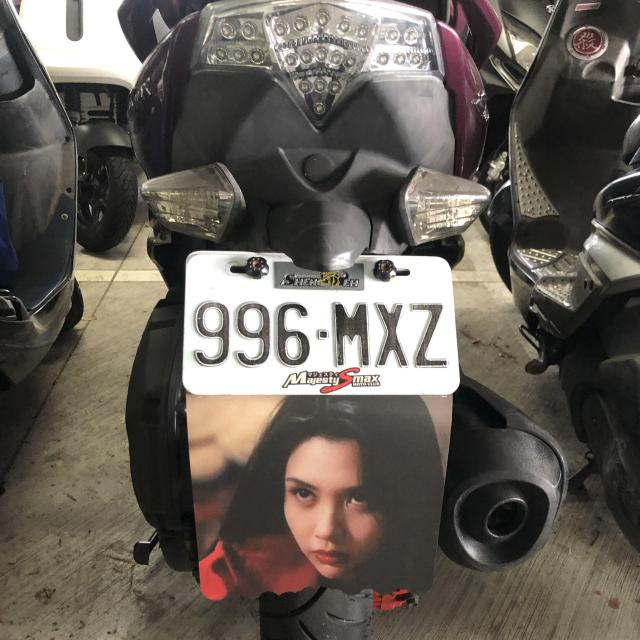W: (178, 243, 458, 411)
